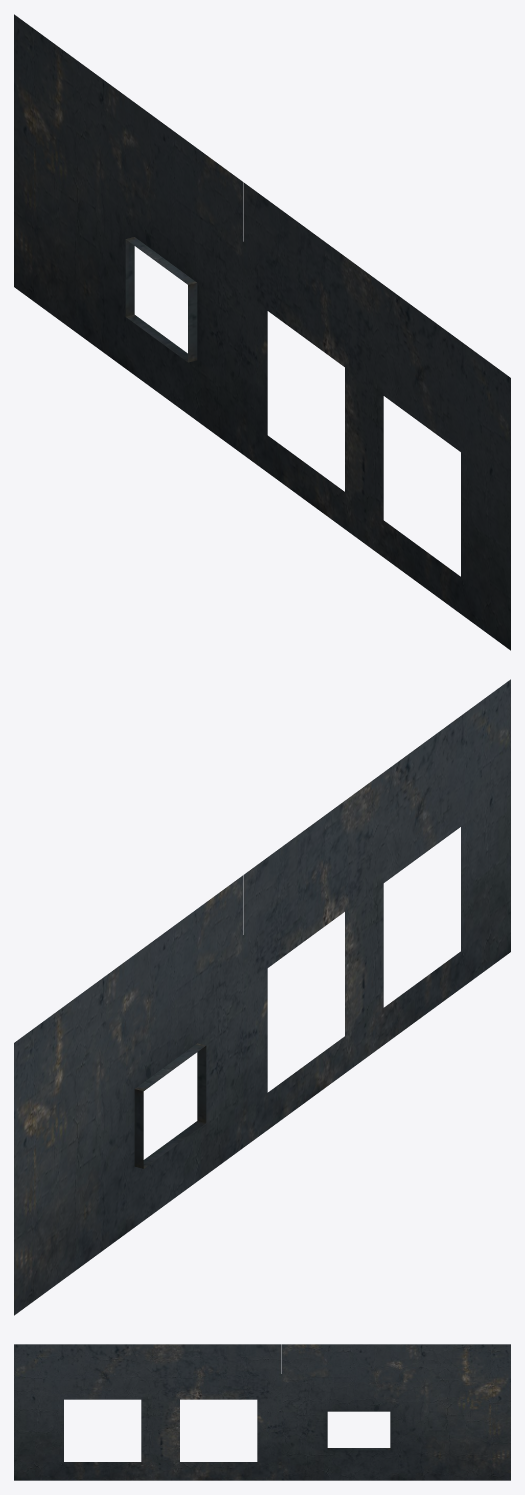
The model's file is Wall_03.FBX.
3 renders of one model, top to bottom at view 1: azimuth 30°, elevation 25°; view 2: azimuth 150°, elevation 25°; view 3: azimuth 270°, elevation 25°, orthographic. The views are drawn at different scales.
Parts seen in each view (by area): view 1: Wall_03; view 2: Wall_03; view 3: Wall_03.
Boxes of the visible parts, <box> form: Wall_03: <box>14,14,510,650</box>; Wall_03: <box>14,679,510,1315</box>; Wall_03: <box>14,1344,510,1480</box>.
Bounding box in the file's own units: 17.95 × 511 × 1688.
